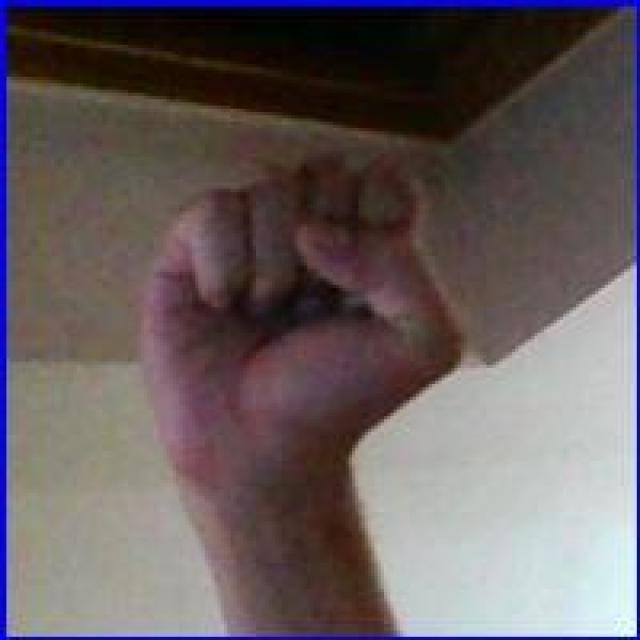S: (128, 142, 477, 533)
